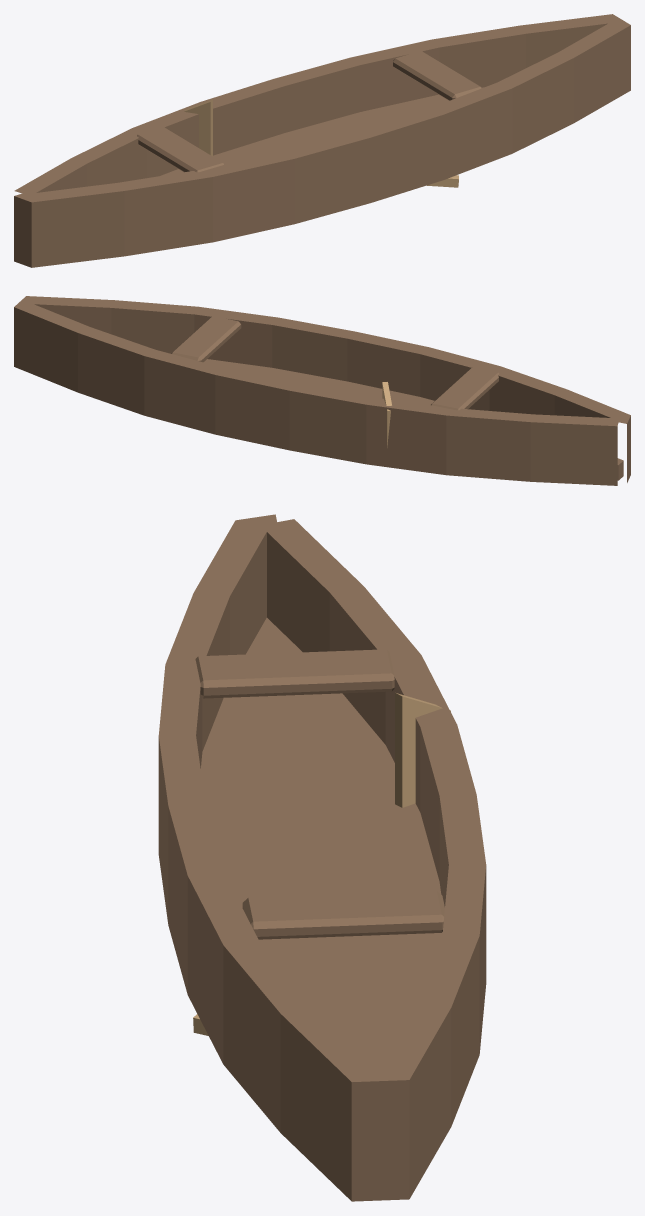
The model's file is town_canoe.glb.
The picture shows the model from 3 angles, top to bottom: view 1: azimuth 30°, elevation 25°; view 2: azimuth 150°, elevation 25°; view 3: azimuth 270°, elevation 25°; orthographic projection. The views are drawn at different scales.
Parts seen in each view (by area): view 1: world; view 2: world; view 3: world.
Part boxes in pixels (x1=…): world: x1=14, y1=14, x2=630, y2=267; world: x1=14, y1=296, x2=630, y2=485; world: x1=158, y1=514, x2=486, y2=1201.
Bounding box in the file's own units: 2 × 0.2772 × 0.4875.
